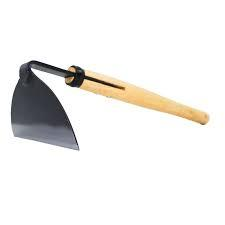HOUE: (9, 5, 220, 173)
